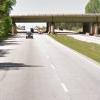Bridge: (7, 6, 100, 32)
